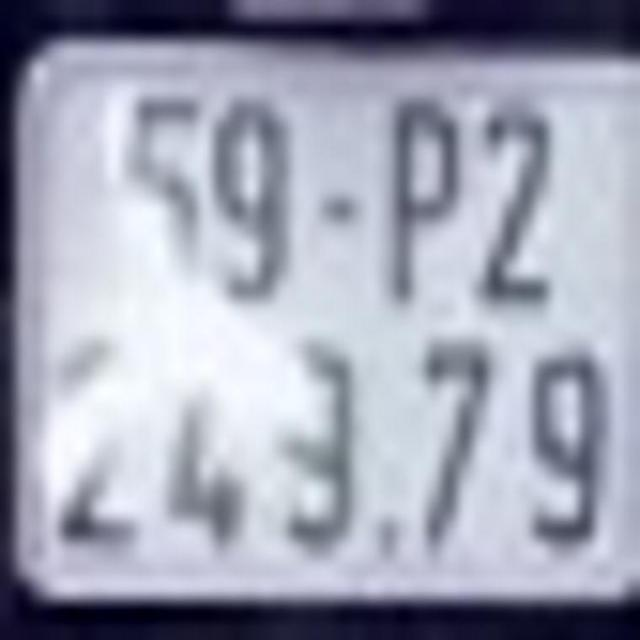2: (64, 340, 148, 546), (481, 104, 556, 309)
4: (164, 340, 247, 551)
5: (129, 95, 203, 308)
7: (420, 338, 494, 552)
9: (271, 338, 355, 552), (212, 100, 295, 303), (529, 350, 603, 548)
P: (389, 96, 467, 317)
